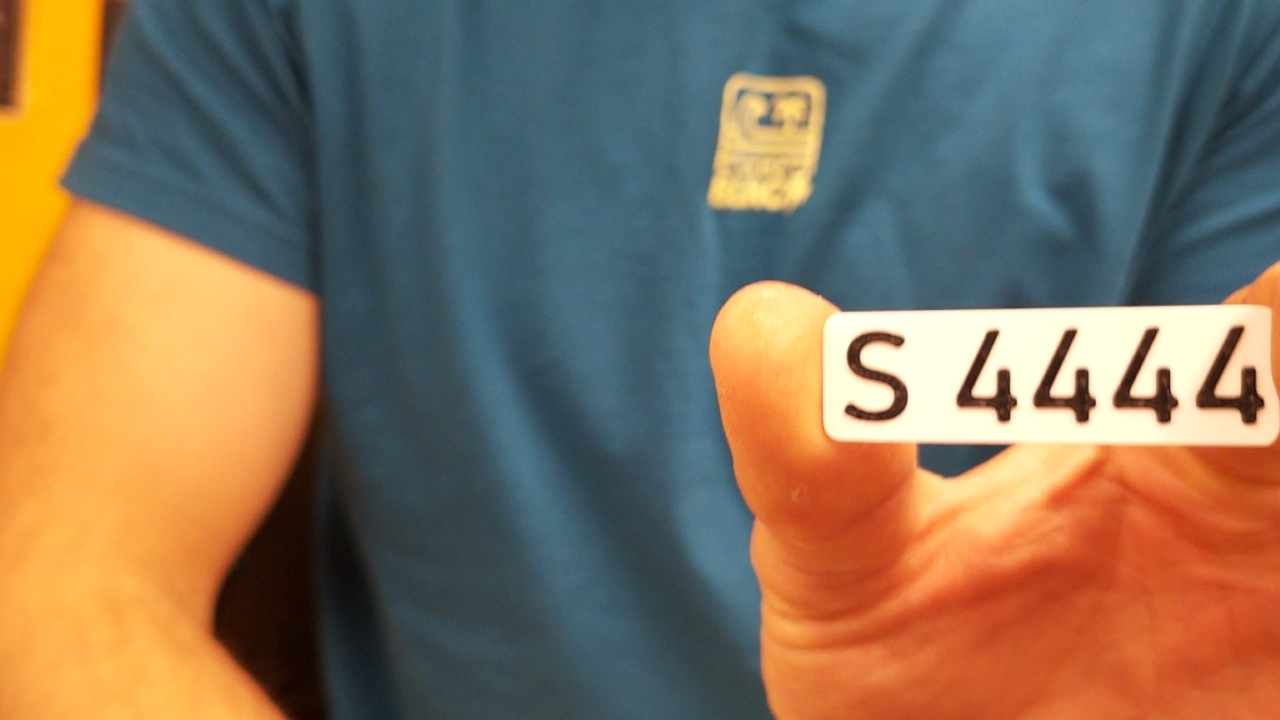license_plate: (815, 298, 1280, 450)
